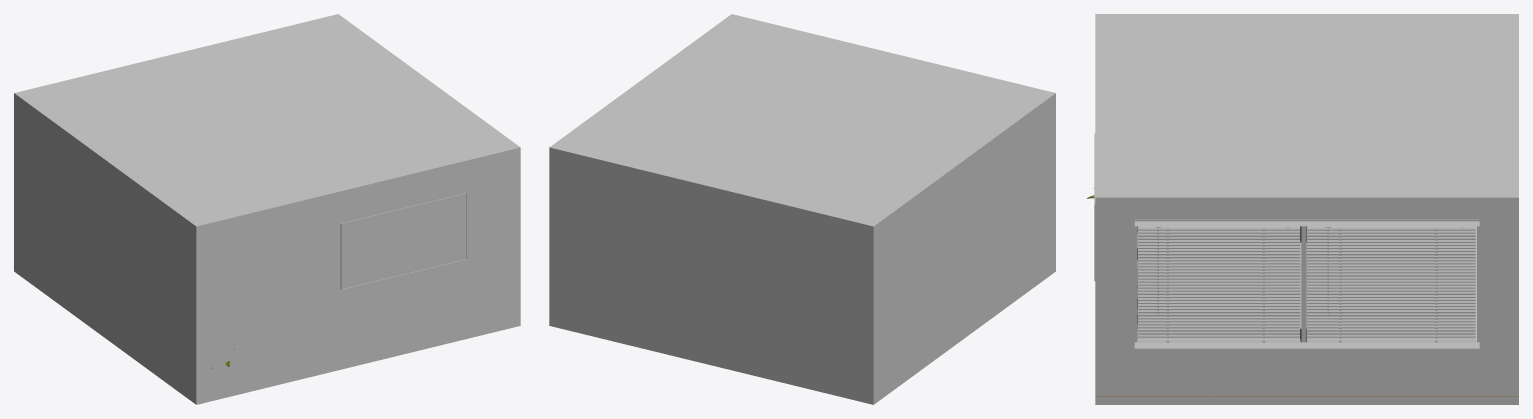
The model's file is NightForemans_Walls_Fix_05.fbx.
3 views of the same model, side by side, from view 1: azimuth 30°, elevation 25°; view 2: azimuth 150°, elevation 25°; view 3: azimuth 270°, elevation 25° (orthographic). The views are drawn at different scales.
Parts seen in each view (by area): view 1: NFO_Walls, Cork_Board; view 2: NFO_Walls; view 3: NFO_Walls, headusOBJexport1, headusOBJexport2.
Boxes of the visible parts, left/top/right/bottom form: NFO_Walls: left=14, top=14, right=520, bottom=404; Cork_Board: left=340, top=193, right=466, bottom=289; NFO_Walls: left=549, top=14, right=1055, bottom=404; NFO_Walls: left=1095, top=14, right=1518, bottom=404; headusOBJexport1: left=1134, top=220, right=1479, bottom=345; headusOBJexport2: left=1096, top=396, right=1518, bottom=396.
Size of the model in its own units: 5.32 by 2.71 by 5.13.
